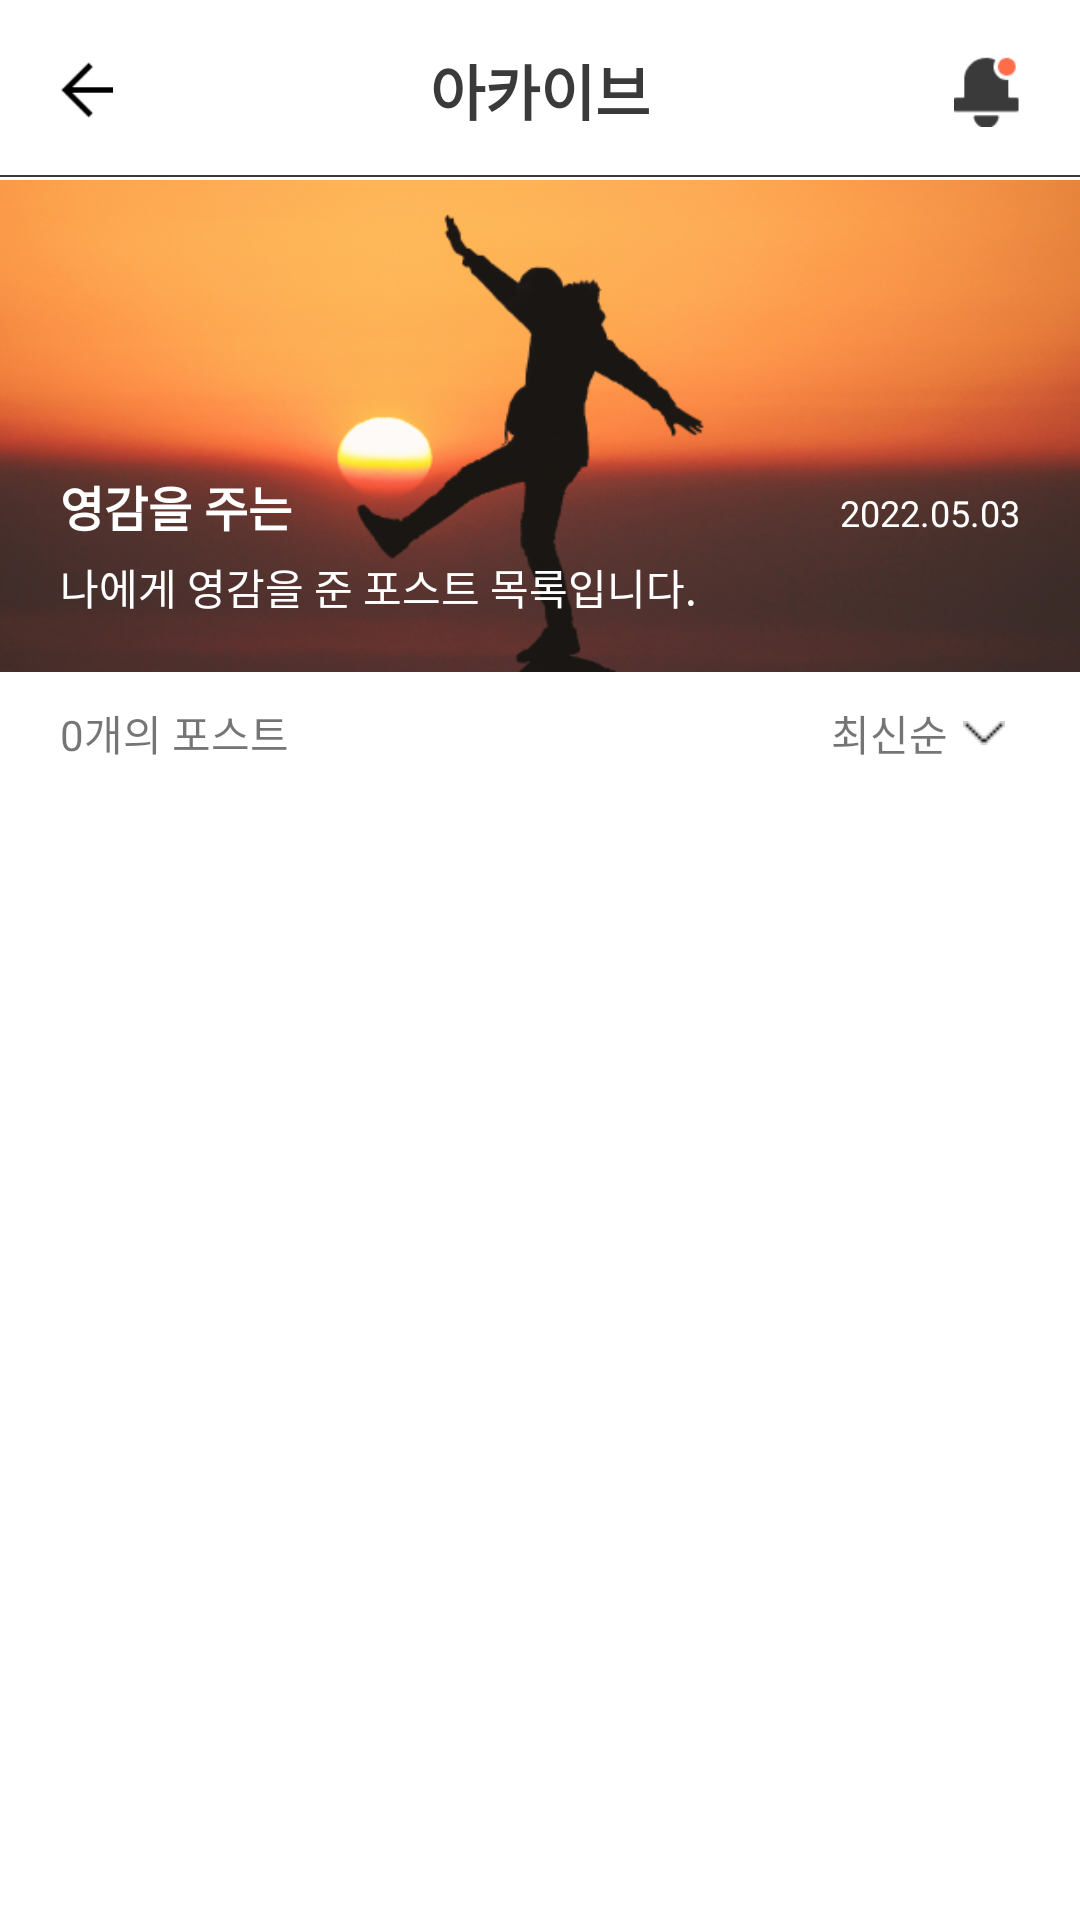

Where icons sit on this 1080x1920 app screen, as {"x1": x1, "y1": y1, "x2": x2, "y2": y2}:
alarm: {"x1": 954, "y1": 57, "x2": 1019, "y2": 127}
arrow left: {"x1": 61, "y1": 62, "x2": 113, "y2": 118}
direction down: {"x1": 963, "y1": 721, "x2": 1005, "y2": 745}
